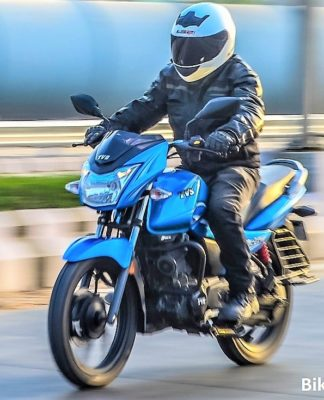helmet: (171, 1, 236, 84)
